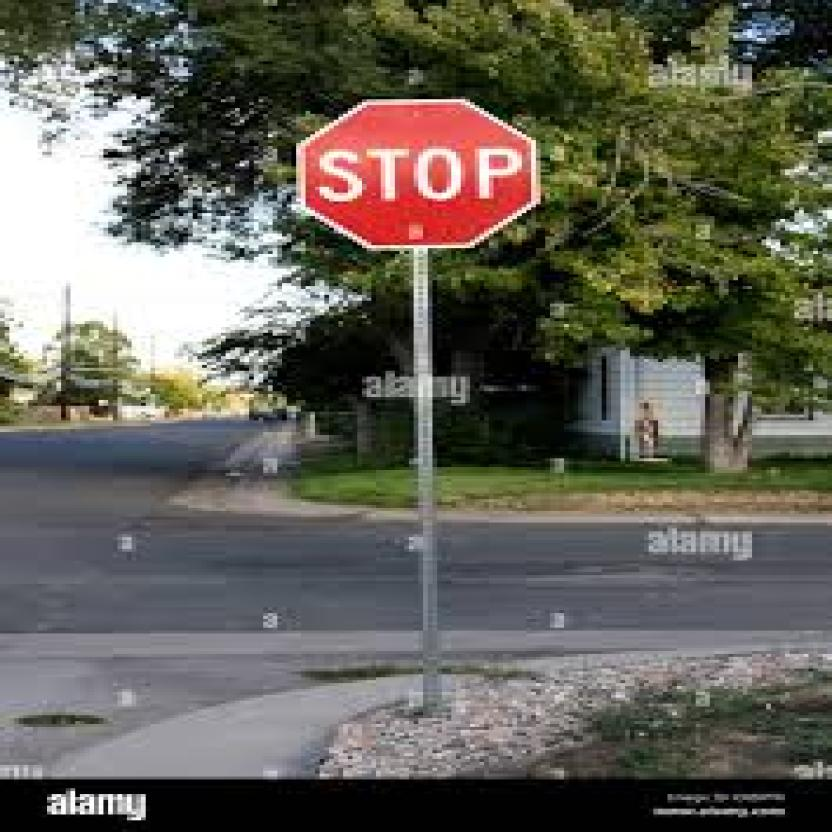Pole: (409, 248, 437, 707)
Sign: (306, 98, 532, 254)
